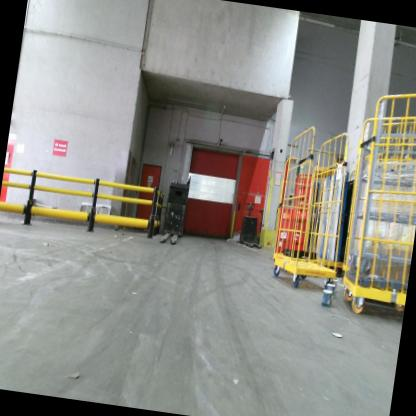pallet_truck: (154, 173, 270, 255)
